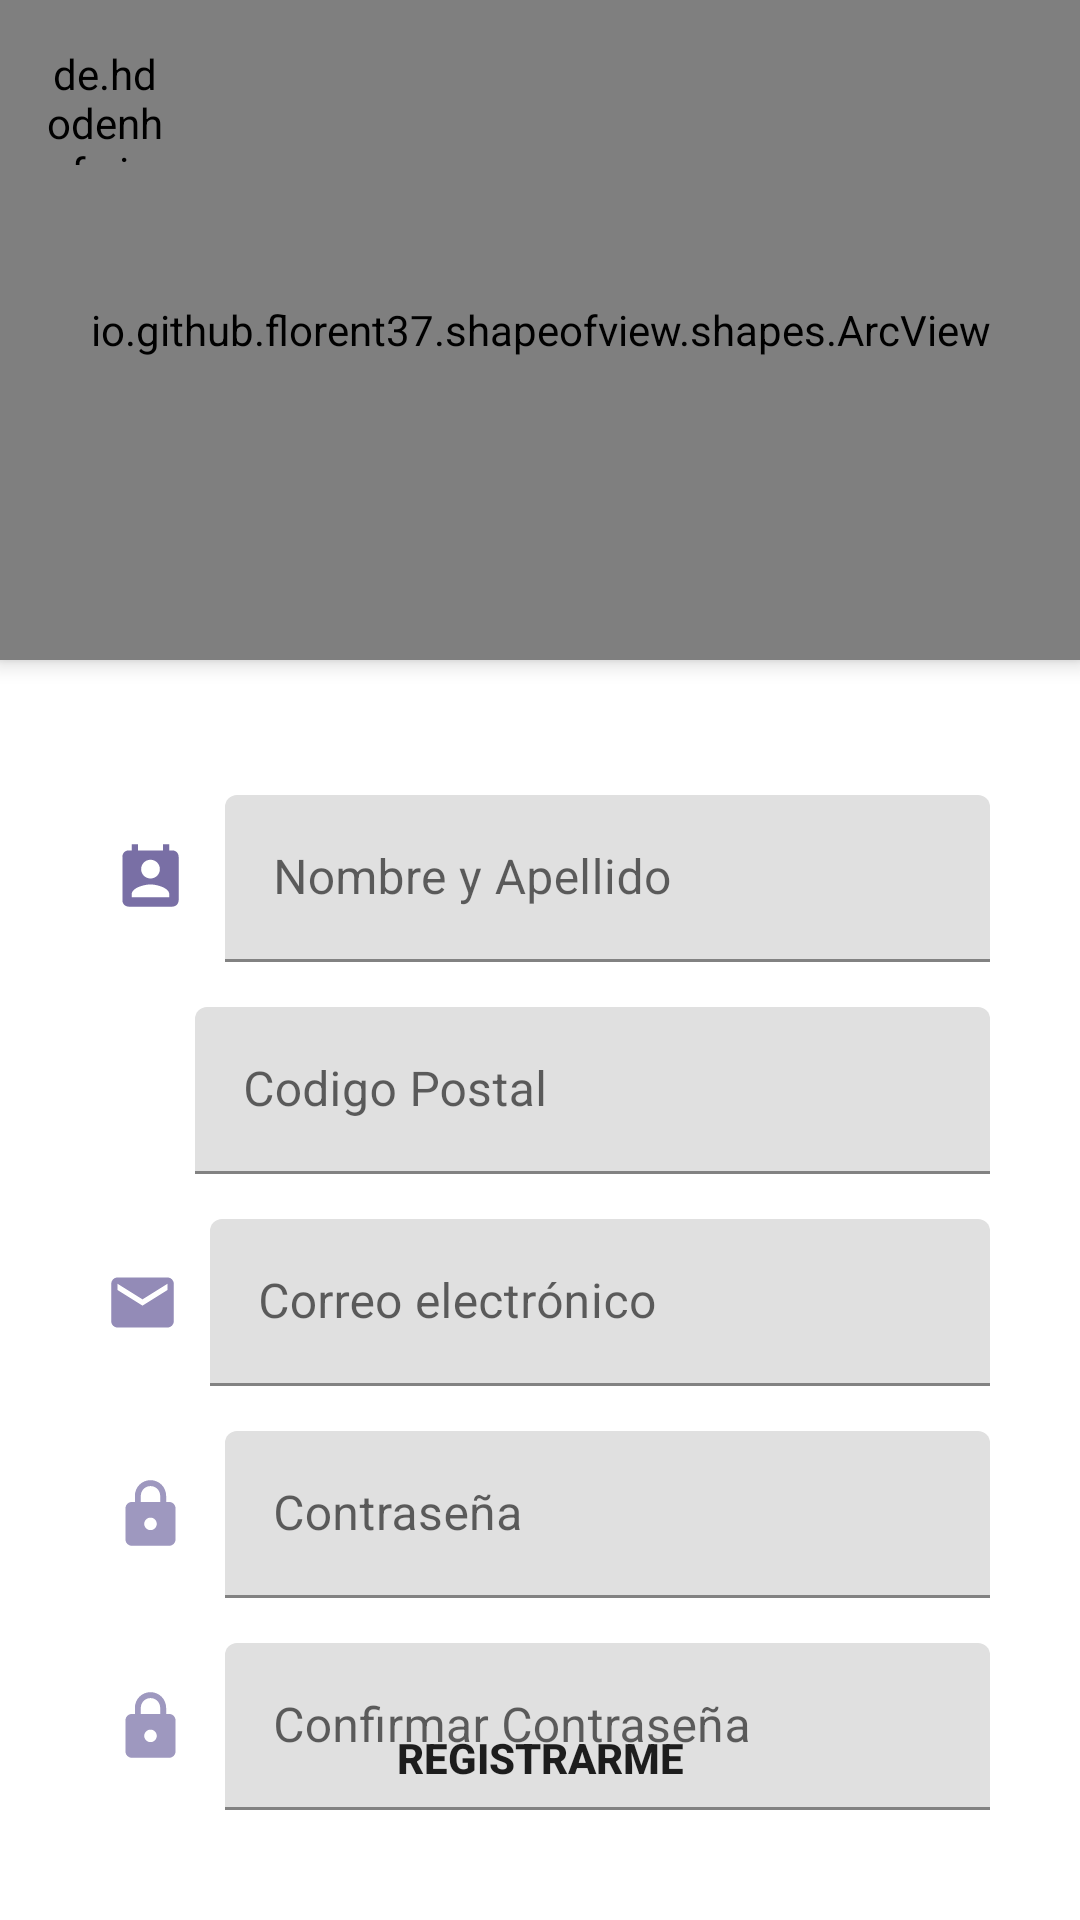

Where icons sit on this 1080px x 1920px app screen, as BBox(x1, y1, x2, y2):
email: BBox(111, 1277, 174, 1328)
lock: BBox(125, 1480, 176, 1546), BBox(125, 1692, 176, 1758)
personal contact: BBox(122, 844, 179, 907)
